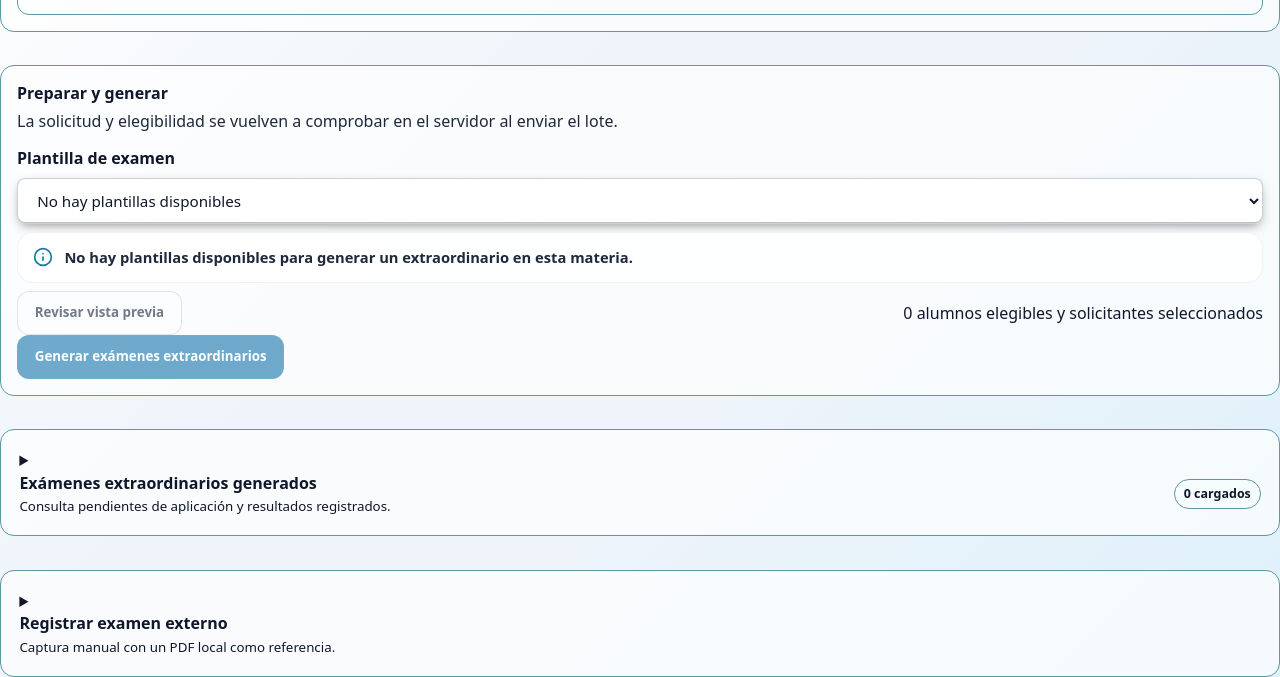
ExtraordinariosCalificaciones › explica el estado del registro externo cuando no hay alumnado elegible
(page scrolled)
Click the text "Registrar examen externo" at (124, 624), box [19,612,228,634]
(page scrolled)
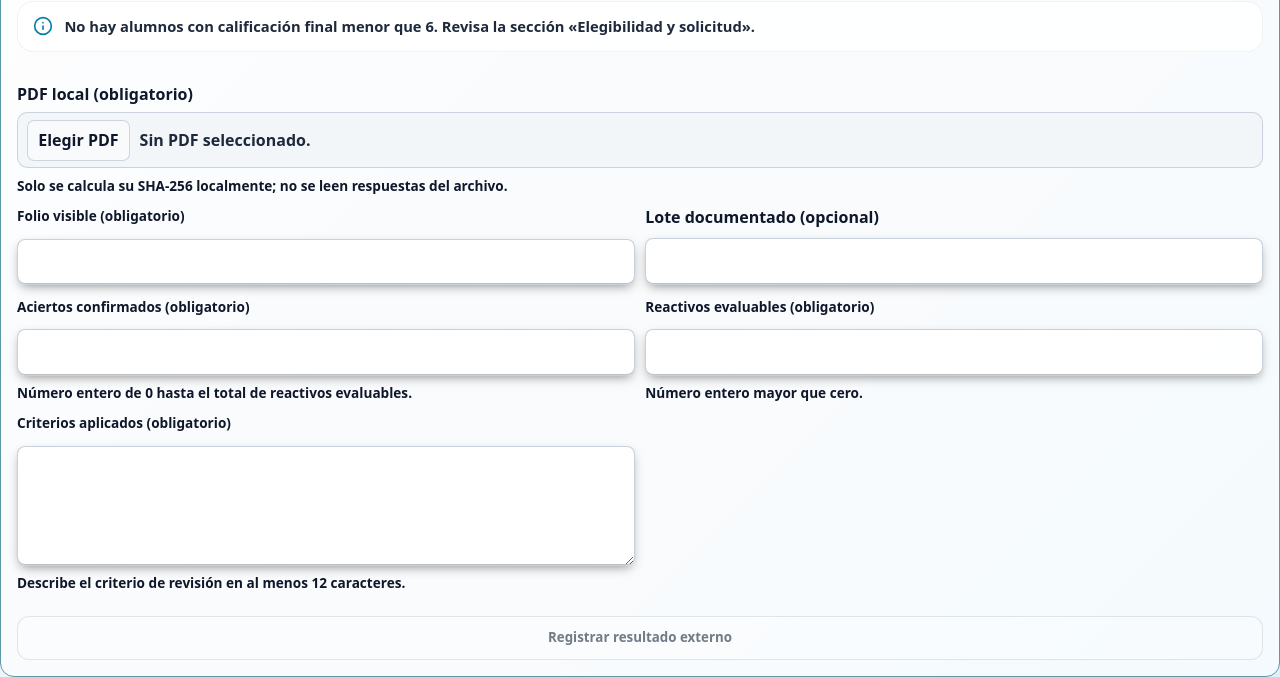
Expected: the text "No hay alumnos con calificación final menor que 6. Revisa la sección «Elegibilidad y solicitud»." is shown, [64,16,755,36]
Expected: the button "Registrar resultado externo" is disabled, [17,616,1263,660]
